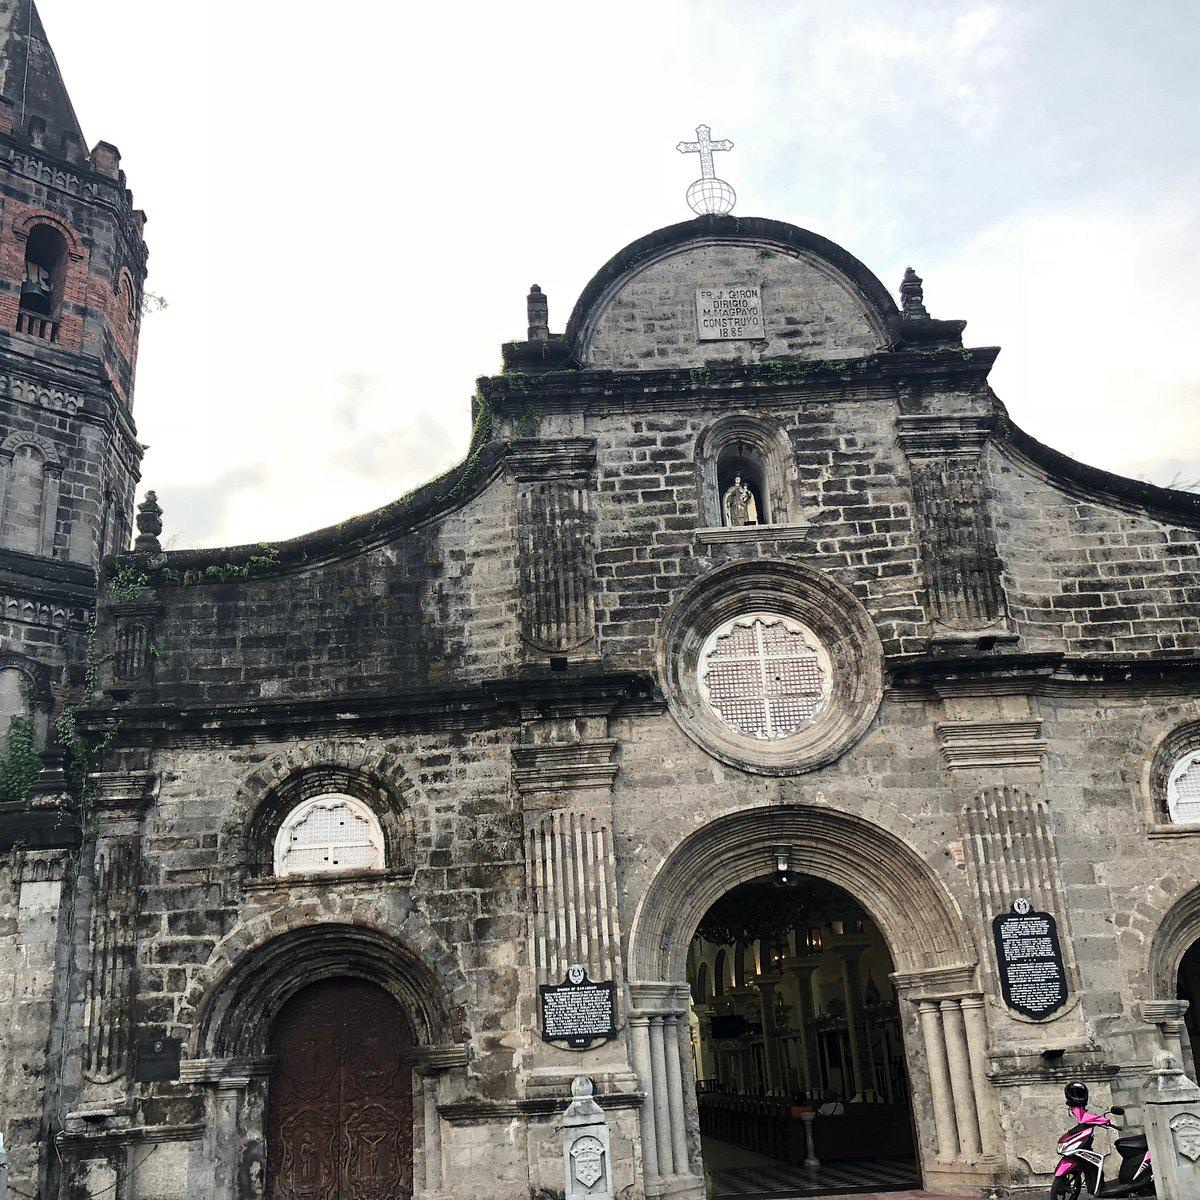barasoain_church_malolos_bulacan: (5, 7, 1200, 1199)
